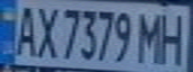3: (78, 6, 100, 61)
7: (57, 3, 81, 60), (97, 7, 118, 62)
9: (112, 8, 136, 63)
A: (9, 1, 39, 57)
H: (154, 8, 193, 65)
M: (133, 9, 169, 64)
X: (33, 2, 60, 60)
